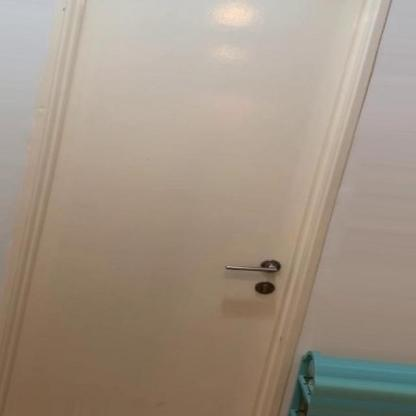door: (33, 1, 371, 416)
